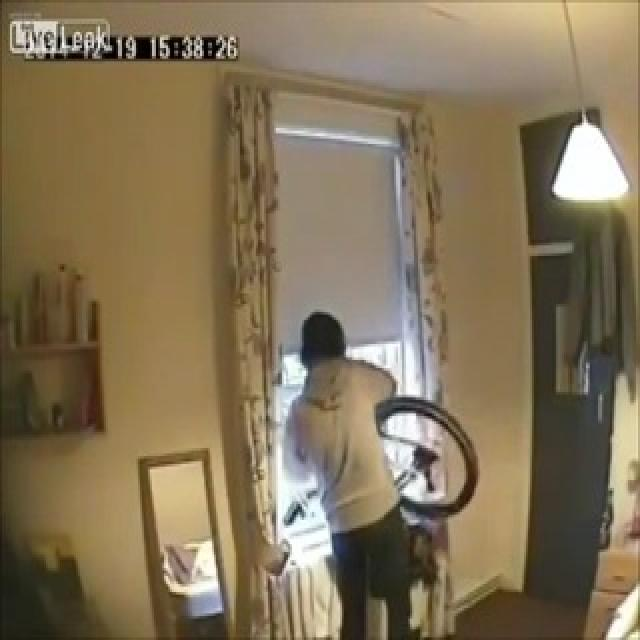thief: (288, 294, 368, 405)
